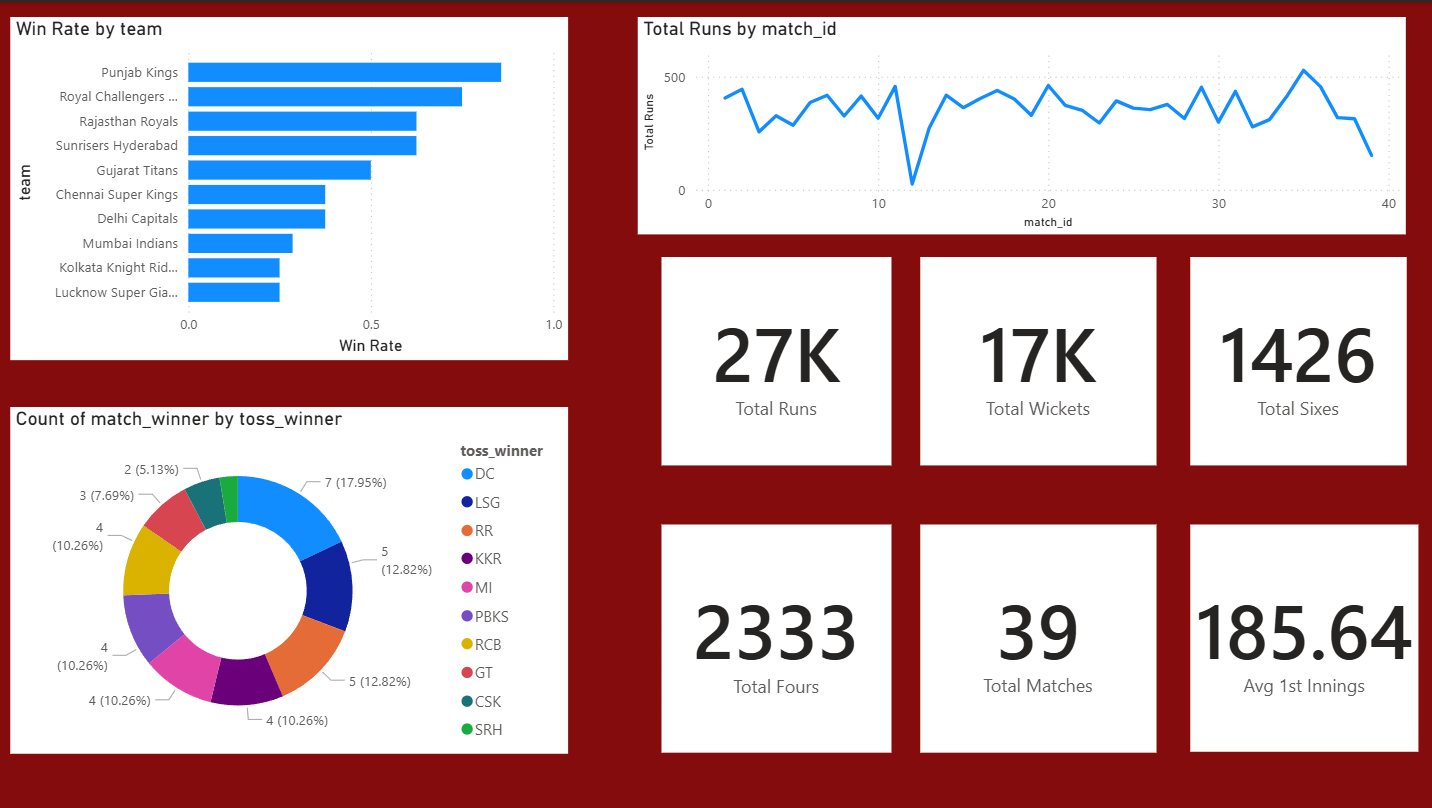

This screenshot's page, from the dashboard's own definition file:
{"tool":"powerbi","page":{"name":"Executive Overview","canvas":[1280,720],"ordinal":0},"visuals":[{"type":"barChart","fields":{"Category":["points_table.team"],"Y":["New Measures.Win Rate"]},"box":[9.6,13.6,496.8,305.7],"z":0},{"type":"donutChart","fields":{"Category":["matches.toss_winner"],"Y":["CountNonNull(matches.match_winner)"]},"box":[9.6,360.3,496.8,308.5],"z":1000},{"type":"lineChart","fields":{"Y":["New Measures.Total Runs"],"Category":["matches.match_id"]},"box":[552.8,13.6,711.1,193.8],"z":2000},{"type":"card","fields":{"Values":["New Measures.Total Runs"]},"box":[589.6,226.6,204.7,185.6],"z":3000},{"type":"card","fields":{"Values":["New Measures.Total Wickets"]},"box":[820.3,226.6,210.2,185.6],"z":4000},{"type":"card","fields":{"Values":["New Measures.Total Sixes"]},"box":[1060.5,226.6,192.5,185.6],"z":5000},{"type":"card","fields":{"Values":["New Measures.Total Fours"]},"box":[589.6,465.4,204.7,203.4],"z":6000},{"type":"card","fields":{"Values":["New Measures.Total Matches"]},"box":[820,465,210,203],"z":7000},{"type":"card","fields":{"Values":["New Measures.Avg 1st Innings"]},"box":[1060.5,465.4,203.4,202],"z":8000}]}

Visuals, with their boxes in screenshot pixels (x1, y1, x2, y2), scaled from the page's 1280x720 canvas onto the 1432x808 screenshot:
barChart - points_table.team x New Measures.Win Rate: 11 15 567 358
donutChart - matches.toss_winner x CountNonNull(matches.match_winner): 11 404 567 751
lineChart - New Measures.Total Runs x matches.match_id: 618 15 1414 233
card - New Measures.Total Runs: 660 254 889 463
card - New Measures.Total Wickets: 918 254 1153 463
card - New Measures.Total Sixes: 1186 254 1402 463
card - New Measures.Total Fours: 660 522 889 751
card - New Measures.Total Matches: 917 522 1152 750
card - New Measures.Avg 1st Innings: 1186 522 1414 749
